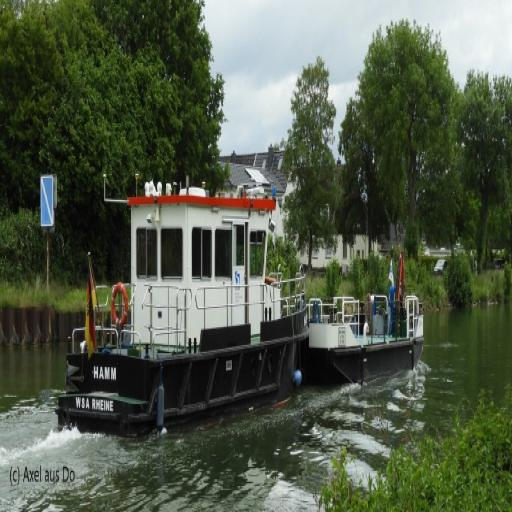tugboat: (54, 168, 315, 450)
